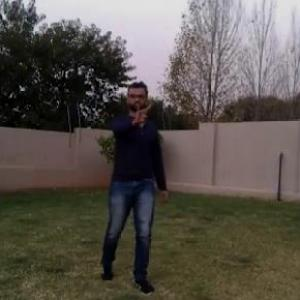takeoff-hand: (127, 95, 151, 123)
